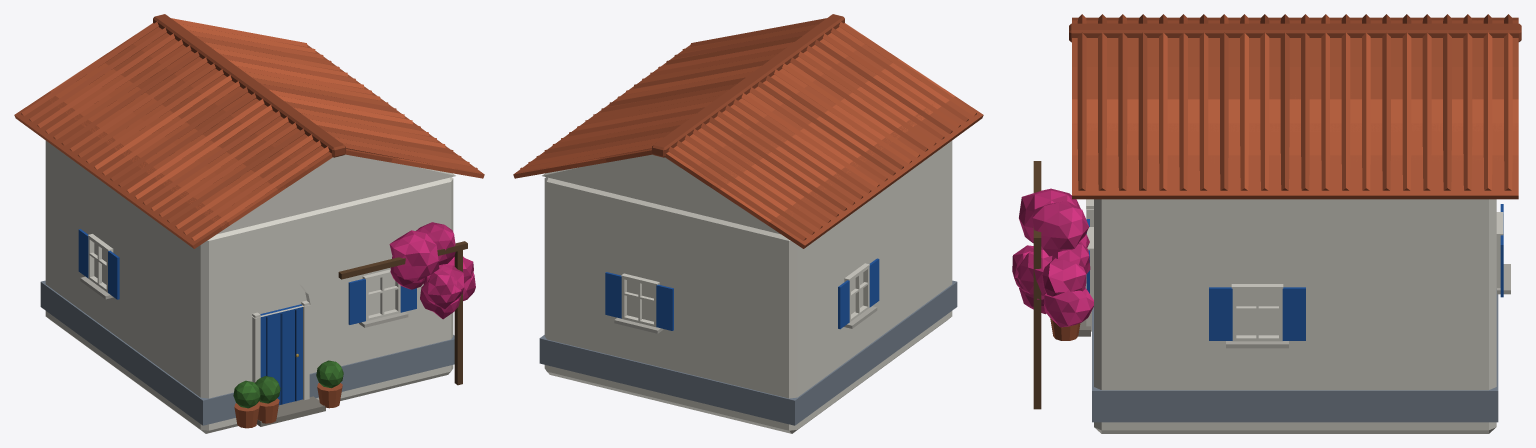
File: house_ege_1.glb
The picture shows the model from 3 angles, left to right: view 1: azimuth 30°, elevation 25°; view 2: azimuth 150°, elevation 25°; view 3: azimuth 270°, elevation 25°; orthographic projection. The views are drawn at different scales.
Parts seen in each view (by area): view 1: box; view 2: box; view 3: box.
Part boxes in pixels (left/top/right/bottom): box: left=14, top=14, right=484, bottom=433; box: left=513, top=14, right=983, bottom=433; box: left=1012, top=14, right=1521, bottom=433.
Bounding box in the file's own units: 6.7 × 5.85 × 8.1.
